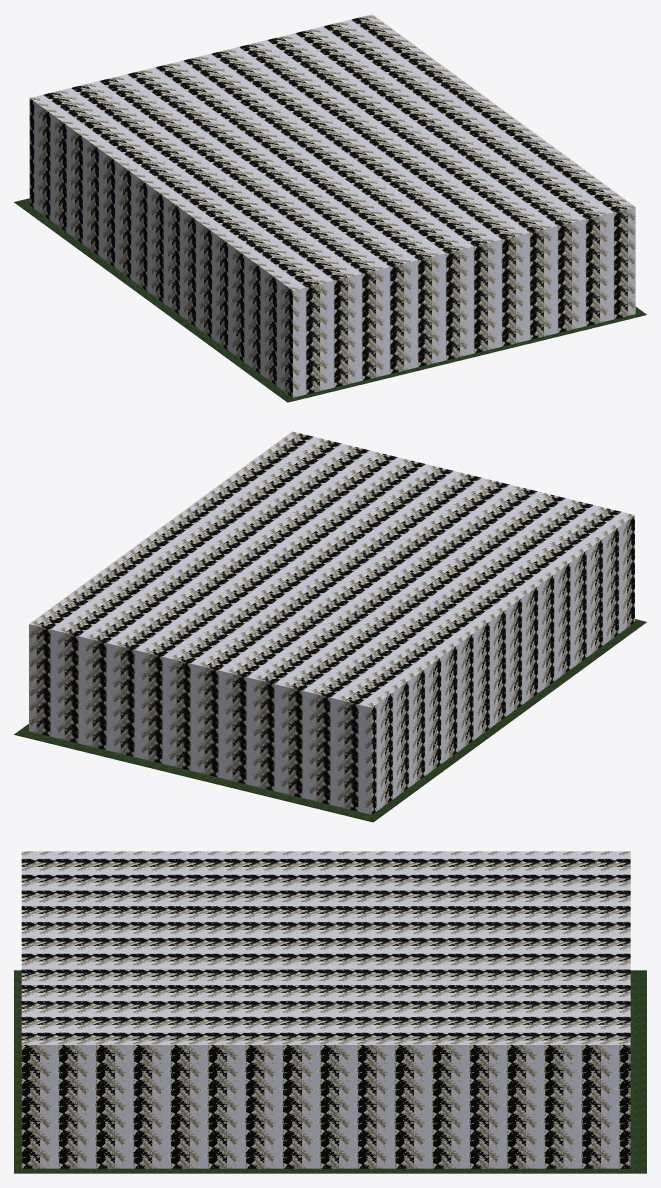
File: Intro3_brush.glb
3 renders of one model, top to bottom at view 1: azimuth 30°, elevation 25°; view 2: azimuth 150°, elevation 25°; view 3: azimuth 270°, elevation 25°, orthographic. The views are drawn at different scales.
Parts seen in each view (by area): view 1: Intro3; view 2: Intro3; view 3: Intro3.
Boxes of the visible parts, x1,y1,x2,y2 form: Intro3: (14,14,646,402); Intro3: (14,431,646,822); Intro3: (14,851,646,1173).
Size of the model in its own units: 3287 by 969 by 4335.
2 materials, 2 textured.
